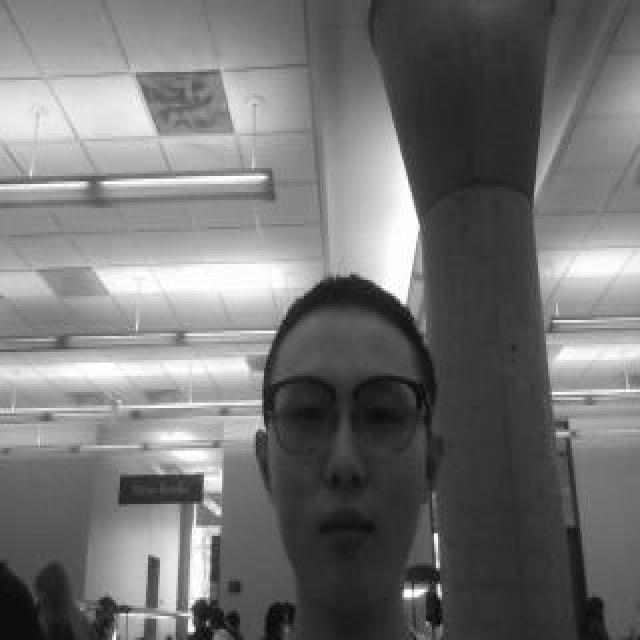Focused: (261, 337, 436, 576)
